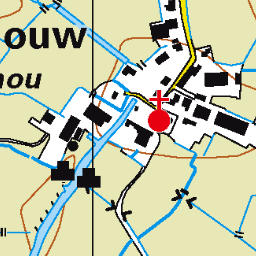church: (144, 88, 174, 136)
